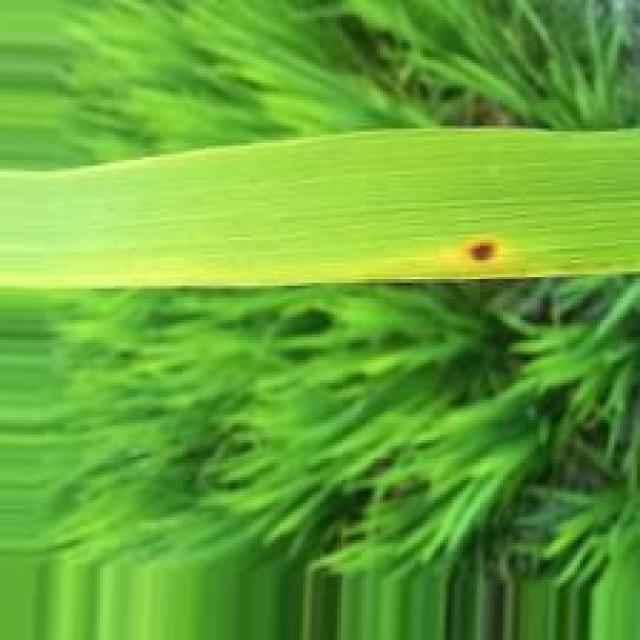Brown_Spot: (462, 231, 508, 270)
